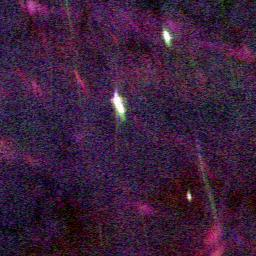Ship: (110, 93, 126, 116), (160, 29, 171, 43), (186, 189, 193, 206)
